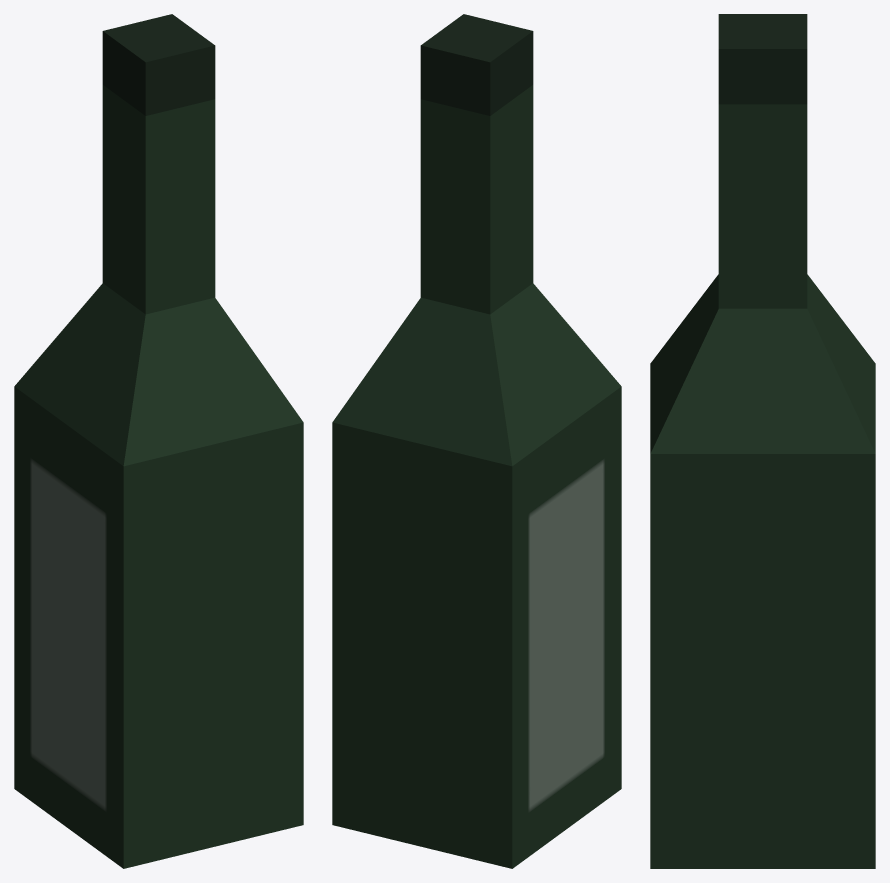
Rendered from Bottle1.FBX.
3 views of the same model, side by side, from view 1: azimuth 30°, elevation 25°; view 2: azimuth 150°, elevation 25°; view 3: azimuth 270°, elevation 25° (orthographic). The views are drawn at different scales.
Parts seen in each view (by area): view 1: Bottle1; view 2: Bottle1; view 3: Bottle1.
Boxes of the visible parts, x1,y1,x2,y2 form: Bottle1: (14,14,303,868); Bottle1: (332,14,621,868); Bottle1: (650,14,875,868).
Size of the model in its own units: 7.47 by 30.49 by 7.85.
